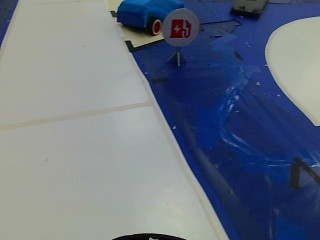battery: (165, 14, 194, 44)
